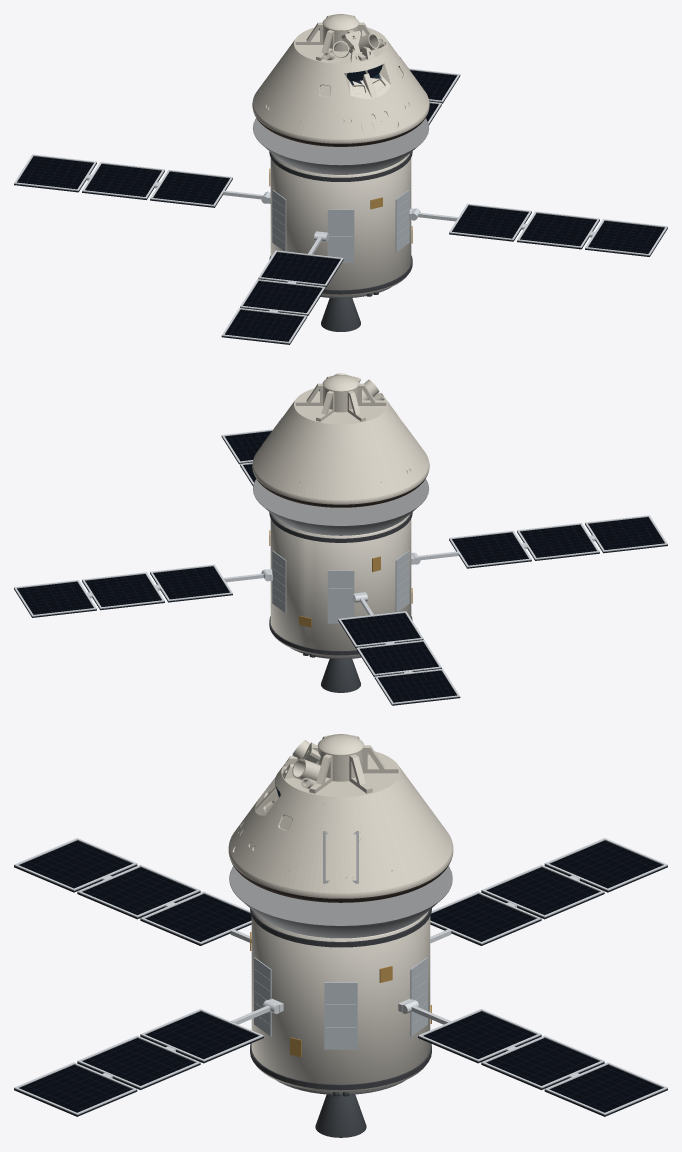
The model's file is orion-threejs-v1.glb.
3 views of the same model, one above another, from view 1: azimuth 30°, elevation 25°; view 2: azimuth 150°, elevation 25°; view 3: azimuth 270°, elevation 25° (orthographic). The views are drawn at different scales.
Parts seen in each view (by area): view 1: CrewCapsule, ServiceModuleCore, CapsuleAdapter, SolarWing_03_Panel_03, SolarWing_04_Panel_03, SolarWing_02_Panel_01, SolarWing_04_Panel_01, SolarWing_04_Panel_02, SolarWing_02_Panel_03, SolarWing_02_Panel_02, SolarWing_03_Panel_01, SolarWing_03_Panel_02 (+7 smaller); view 2: CrewCapsule, ServiceModuleCore, CapsuleAdapter, SolarWing_02_Panel_03, SolarWing_01_Panel_03, SolarWing_03_Panel_01, SolarWing_03_Panel_03, SolarWing_01_Panel_01, SolarWing_03_Panel_02, SolarWing_01_Panel_02, SolarWing_02_Panel_01, SolarWing_02_Panel_02 (+7 smaller); view 3: CrewCapsule, ServiceModuleCore, CapsuleAdapter, SolarWing_01_Panel_03, SolarWing_04_Panel_03, SolarWing_01_Panel_01, SolarWing_04_Panel_01, SolarWing_01_Panel_02, SolarWing_04_Panel_02, SolarWing_02_Panel_03, SolarWing_03_Panel_03, SolarWing_02_Panel_02 (+22 smaller).
Part boxes in pixels (<box>): CrewCapsule: <box>252,15,429,146</box>; ServiceModuleCore: <box>270,154,411,295</box>; CapsuleAdapter: <box>253,118,428,174</box>; SolarWing_03_Panel_03: <box>221,309,307,344</box>; SolarWing_04_Panel_03: <box>585,221,667,256</box>; SolarWing_02_Panel_01: <box>150,171,232,207</box>; SolarWing_04_Panel_01: <box>449,205,531,241</box>; SolarWing_04_Panel_02: <box>517,213,599,249</box>; SolarWing_02_Panel_03: <box>14,156,96,192</box>; SolarWing_02_Panel_02: <box>82,164,164,199</box>; SolarWing_03_Panel_01: <box>258,252,343,287</box>; SolarWing_03_Panel_02: <box>240,281,325,315</box>; CrewCapsule: <box>252,373,429,507</box>; ServiceModuleCore: <box>270,514,411,656</box>; CapsuleAdapter: <box>253,479,428,535</box>; SolarWing_02_Panel_03: <box>374,670,460,705</box>; SolarWing_01_Panel_03: <box>14,581,96,617</box>; SolarWing_03_Panel_01: <box>449,532,531,568</box>; SolarWing_03_Panel_03: <box>585,517,667,553</box>; SolarWing_01_Panel_01: <box>150,566,232,602</box>; SolarWing_03_Panel_02: <box>517,524,599,560</box>; SolarWing_01_Panel_02: <box>82,574,164,610</box>; SolarWing_02_Panel_01: <box>338,613,423,648</box>; SolarWing_02_Panel_02: <box>356,641,441,676</box>; CrewCapsule: <box>228,735,453,902</box>; ServiceModuleCore: <box>251,911,430,1091</box>; CapsuleAdapter: <box>229,866,452,938</box>; SolarWing_01_Panel_03: <box>544,1065,667,1116</box>; SolarWing_04_Panel_03: <box>14,1065,137,1116</box>; SolarWing_01_Panel_01: <box>418,1011,541,1063</box>; SolarWing_04_Panel_01: <box>140,1011,263,1063</box>; SolarWing_01_Panel_02: <box>481,1038,604,1089</box>; SolarWing_04_Panel_02: <box>77,1038,200,1089</box>; SolarWing_02_Panel_03: <box>544,840,667,892</box>; SolarWing_03_Panel_03: <box>14,840,137,892</box>; SolarWing_02_Panel_02: <box>481,867,604,919</box>.
Bounding box in the file's own units: 14.62 × 9.58 × 14.62.
12 materials, 1 textured.
